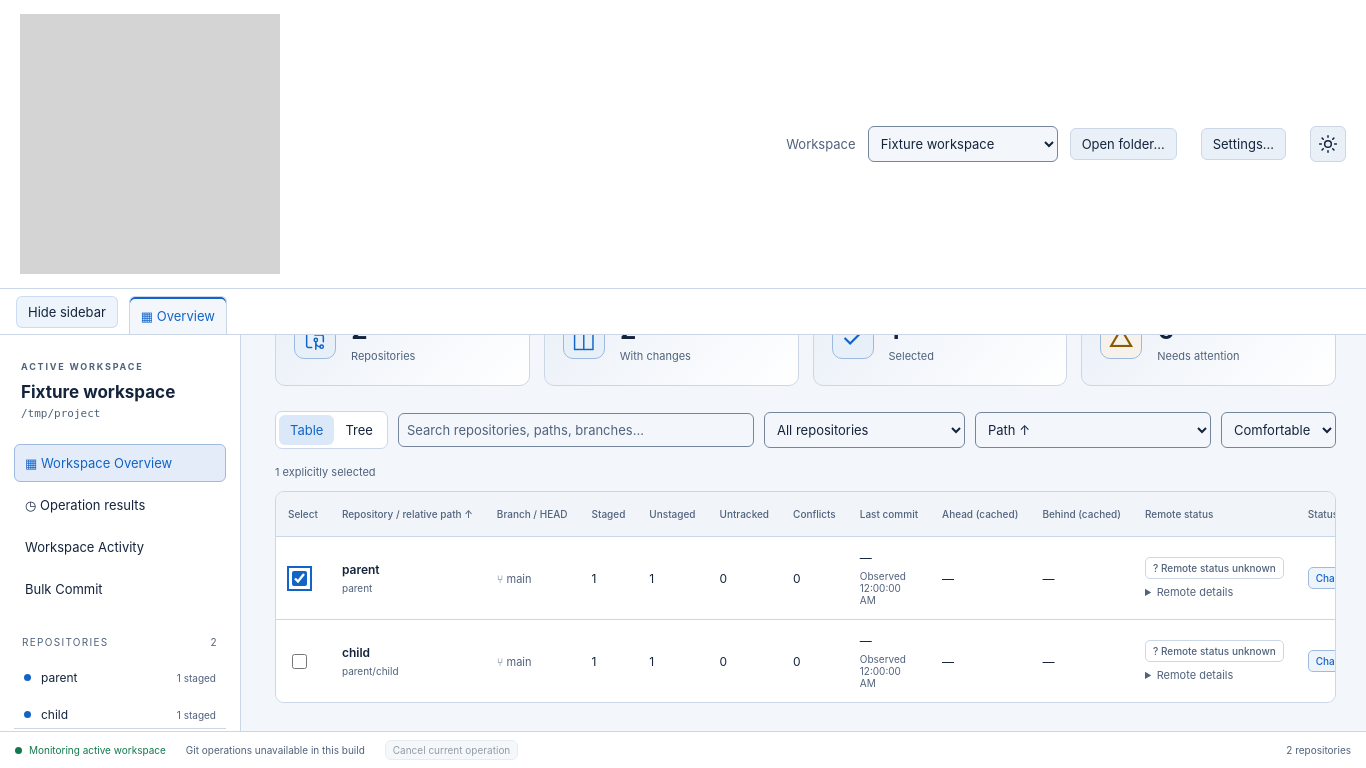
Test case: announces sortable headers, persists the chosen direction and preserves selection
Earlier steps of the test are not shown.
Later steps or results of the test are not shown.
(page scrolled)
Click the button "Staged": (608, 514) [592,504,625,524]
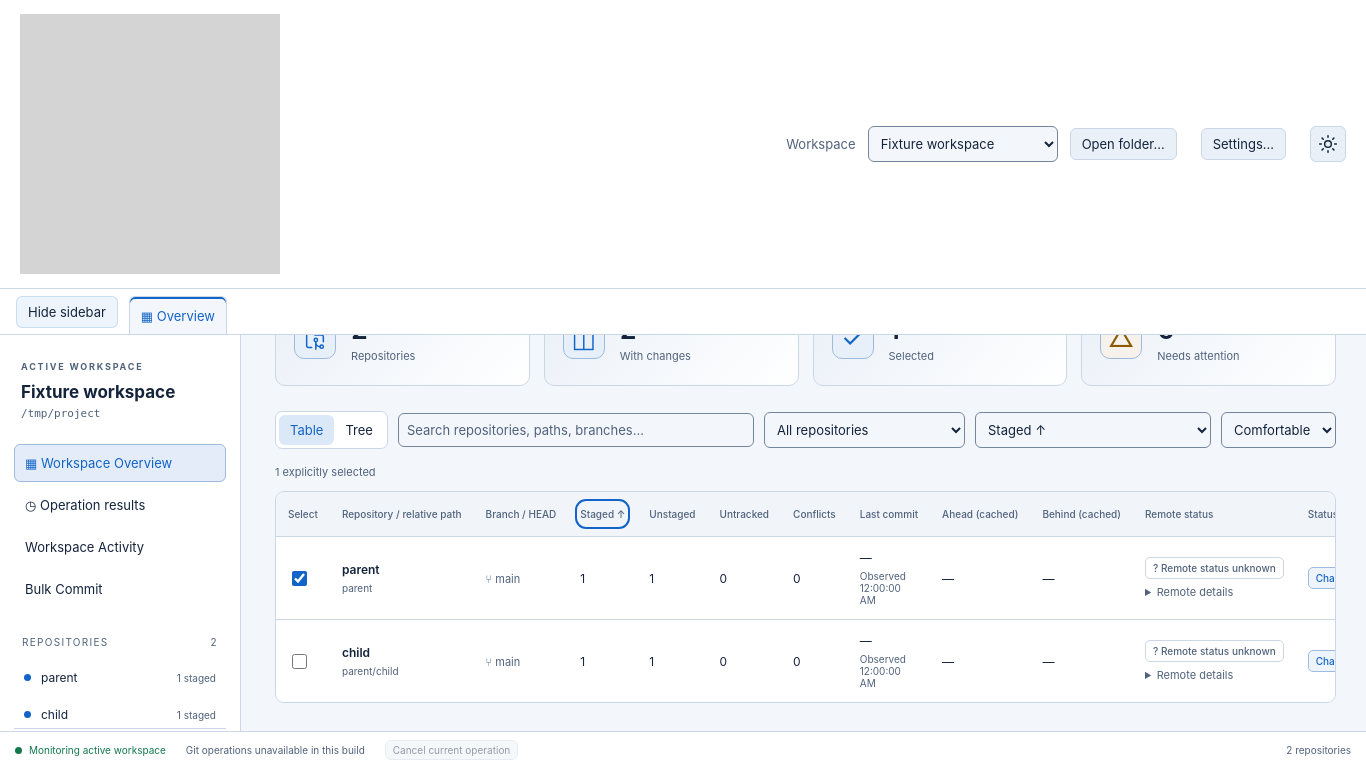
Expected: the column heading "Staged" has attribute aria-sort="ascending", [568,492,637,537]
